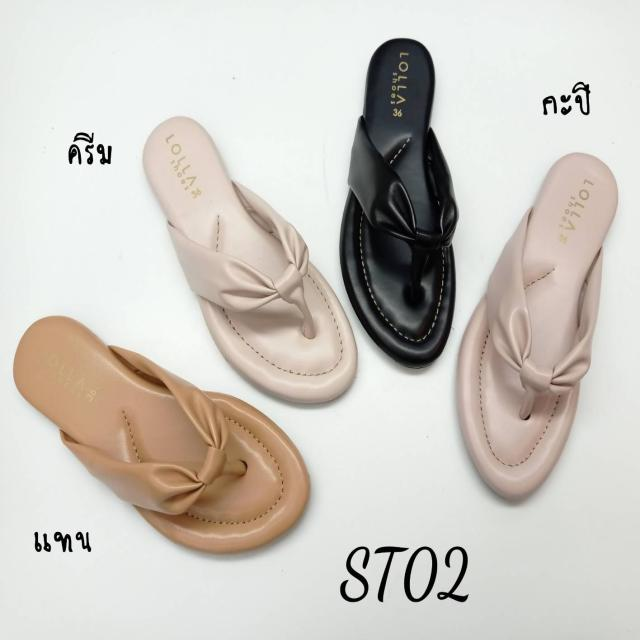black: (343, 35, 455, 369)
cream: (138, 116, 354, 404)
kapi: (454, 155, 614, 506)
tan: (14, 313, 305, 553)
